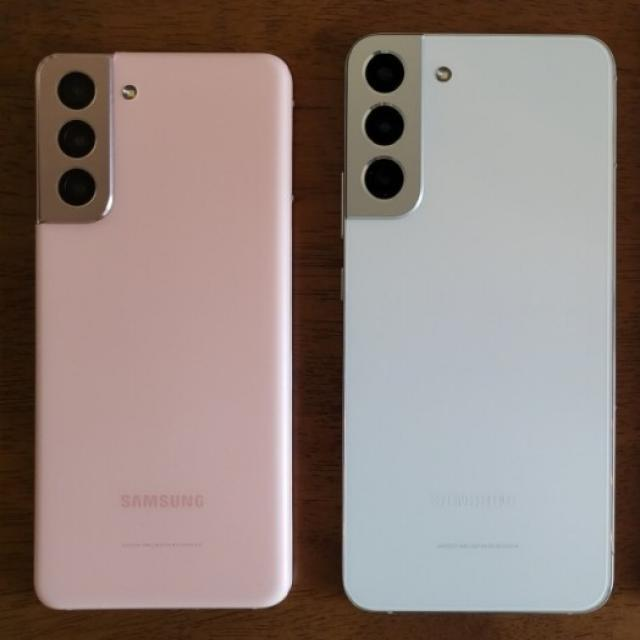phone: (346, 34, 616, 612), (36, 52, 296, 608)
